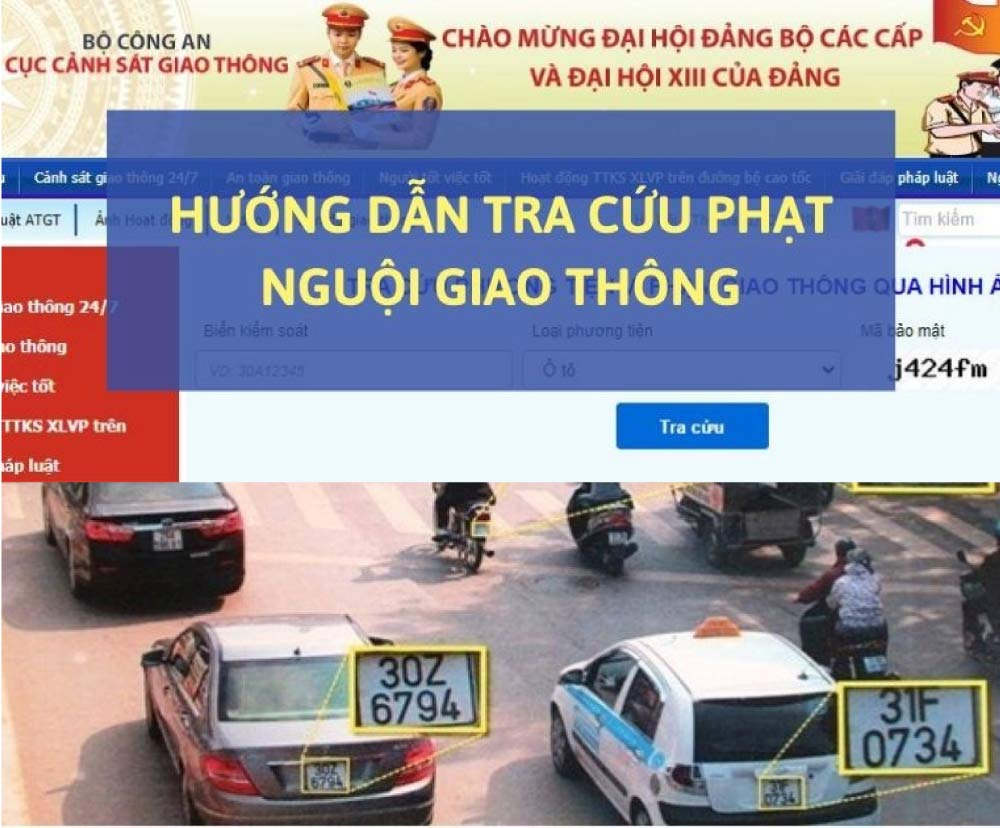oto: (548, 620, 954, 825), (141, 609, 443, 825), (37, 482, 248, 613)
xe_ba_gac: (665, 483, 833, 570)
xe_may: (797, 533, 898, 683), (561, 483, 641, 576), (428, 483, 500, 575)
